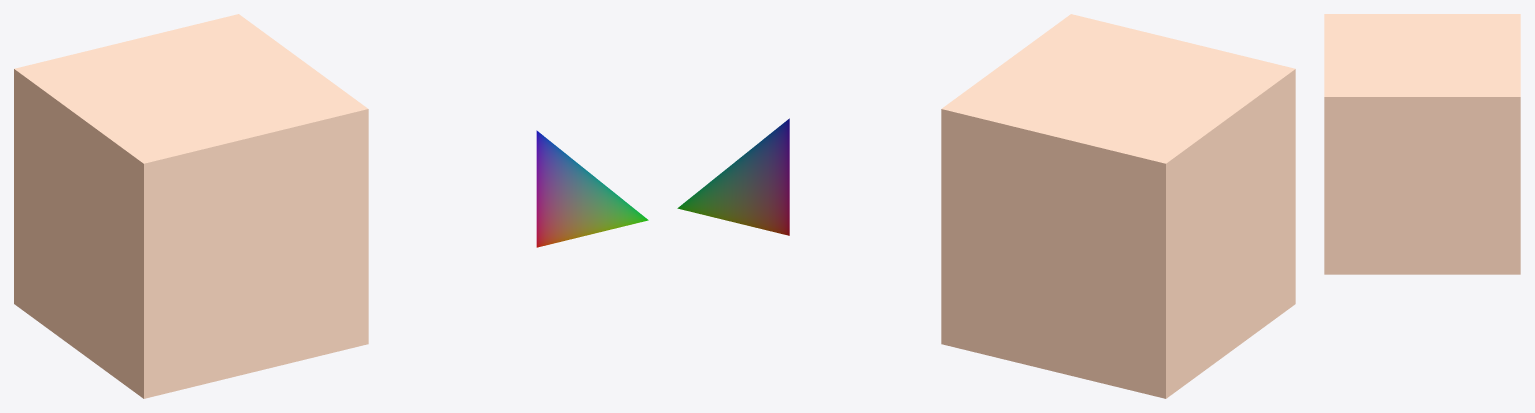
Rendered from plain_meshopt.glb.
The picture shows the model from 3 angles, left to right: view 1: azimuth 30°, elevation 25°; view 2: azimuth 150°, elevation 25°; view 3: azimuth 270°, elevation 25°; orthographic projection. The views are drawn at different scales.
Parts seen in each view (by area): view 1: Box, Tri; view 2: Box, Tri; view 3: Box.
Boxes of the visible parts, box(x1,y1,x2,y2) form: Box: box(14, 14, 368, 398); Tri: box(536, 130, 648, 247); Box: box(941, 14, 1295, 398); Tri: box(677, 118, 789, 235); Box: box(1324, 14, 1520, 274).
Size of the model in its own units: 5 by 2 by 2.
